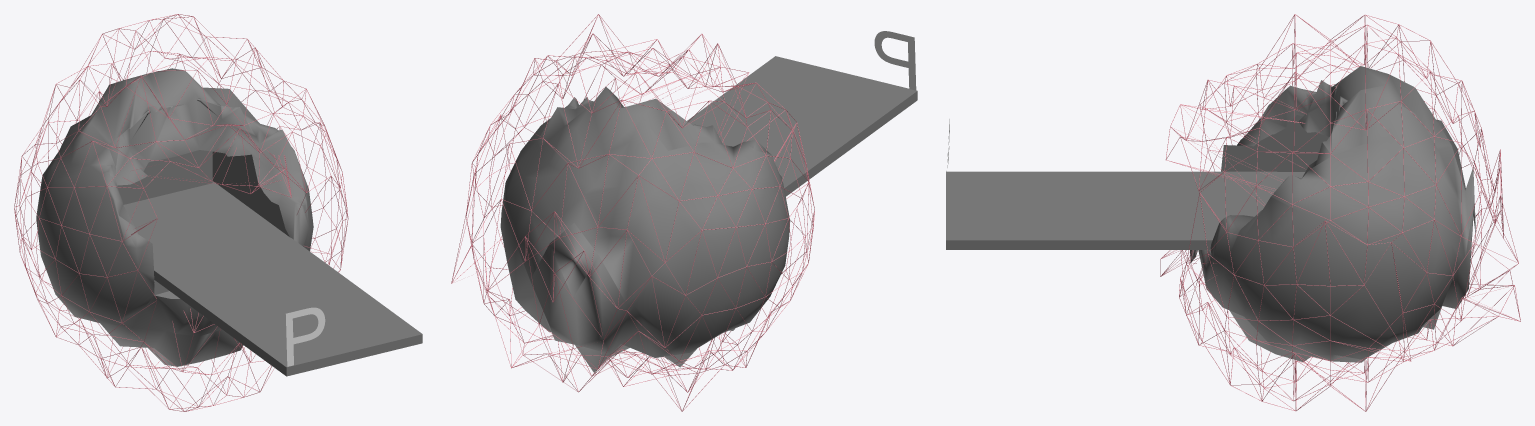
Rendered from parkingspace2.fbx.
3 renders of one model, left to right at view 1: azimuth 30°, elevation 25°; view 2: azimuth 150°, elevation 25°; view 3: azimuth 270°, elevation 25°, orthographic. The views are drawn at different scales.
Parts seen in each view (by area): view 1: GeoSphere010, Box231, GeoSphere011, Box232, TextPlus003; view 2: GeoSphere010, GeoSphere011, Box231, TextPlus003; view 3: GeoSphere010, Box231, GeoSphere011.
Boxes of the visible parts, x1,y1,x2,y2 form: GeoSphere010: [36, 68, 313, 366]; Box231: [123, 181, 422, 376]; GeoSphere011: [14, 14, 348, 411]; Box232: [117, 150, 212, 204]; TextPlus003: [286, 307, 325, 366]; GeoSphere010: [500, 87, 790, 372]; GeoSphere011: [451, 14, 814, 411]; Box231: [687, 56, 917, 196]; TextPlus003: [874, 31, 916, 90]; GeoSphere010: [1190, 66, 1476, 362]; Box231: [946, 171, 1304, 249]; GeoSphere011: [1160, 14, 1520, 411].
Size of the model in its own units: 36413 by 42557 by 60297.
